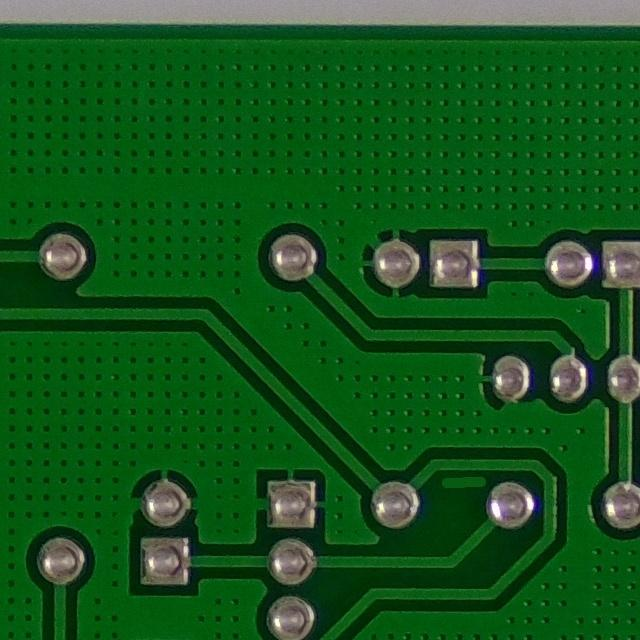spurious_copper: (437, 467, 493, 503)
